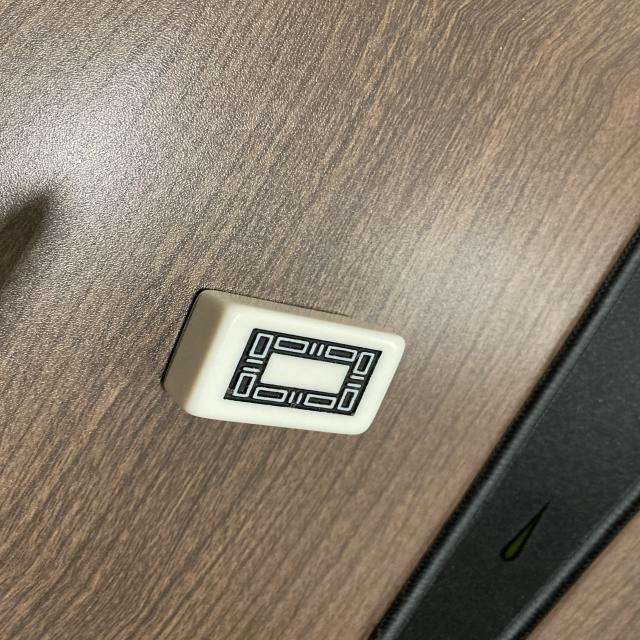WD: (190, 306, 399, 436)
